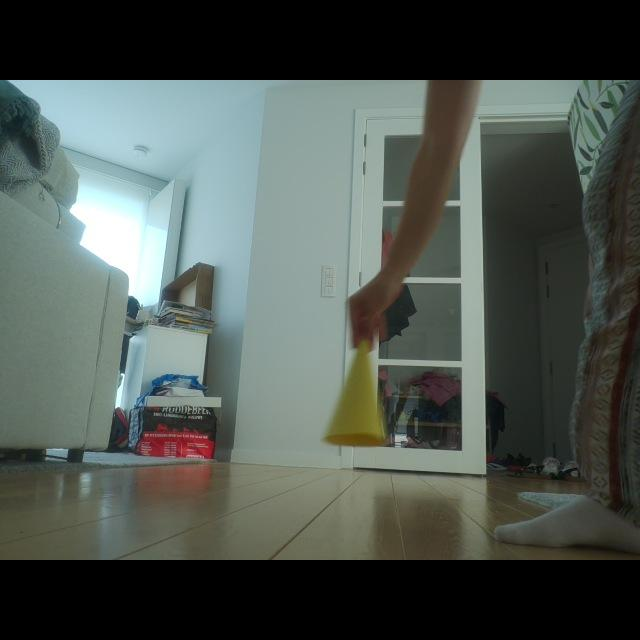bolya: (324, 342, 384, 446)
